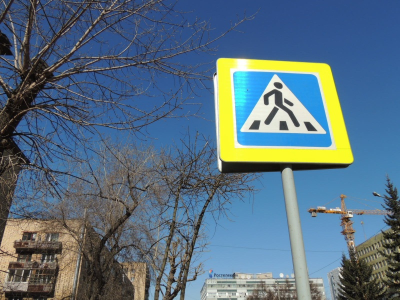crosswalk: (239, 70, 328, 147)
